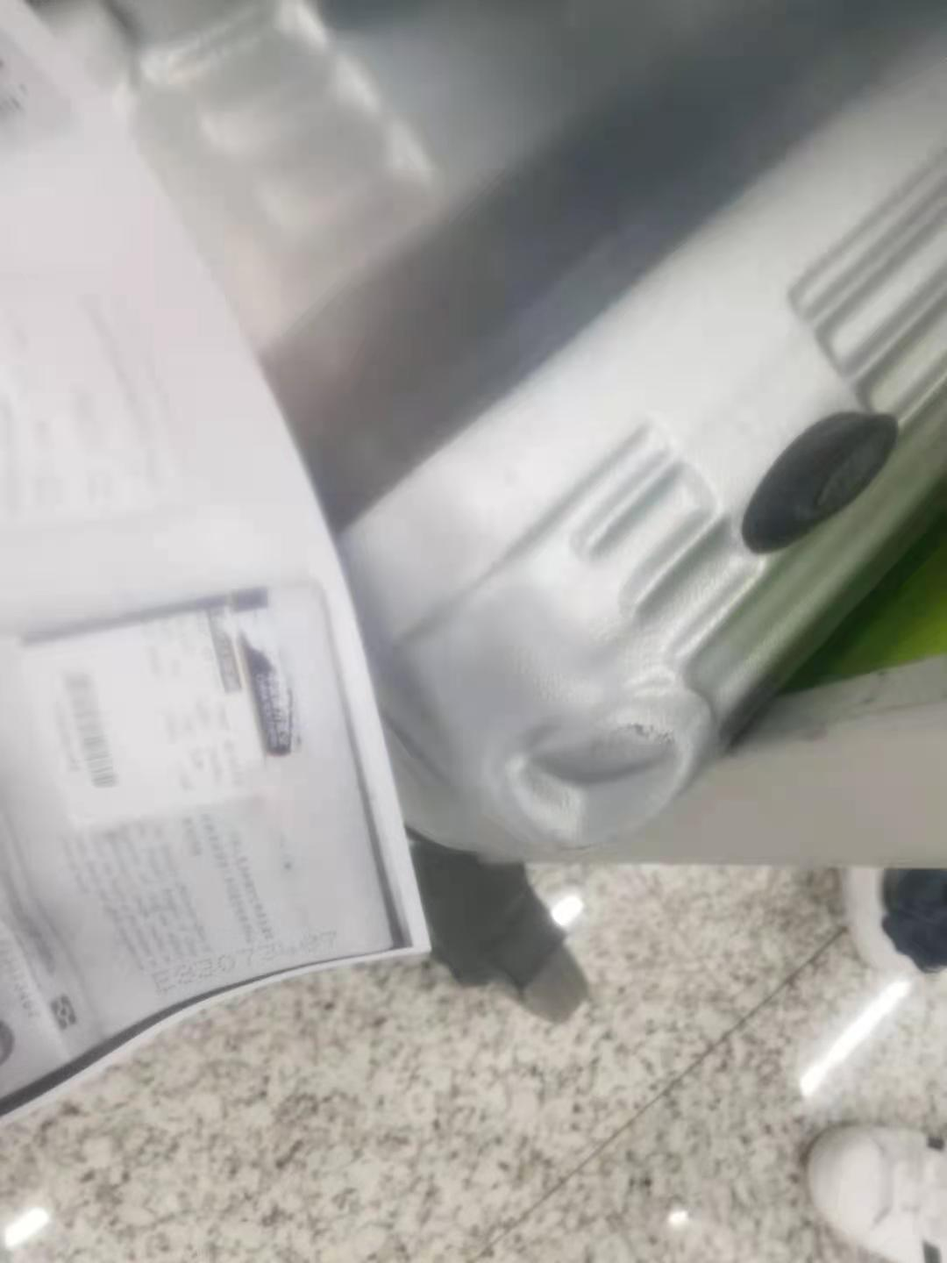rupture: (503, 717, 693, 848)
